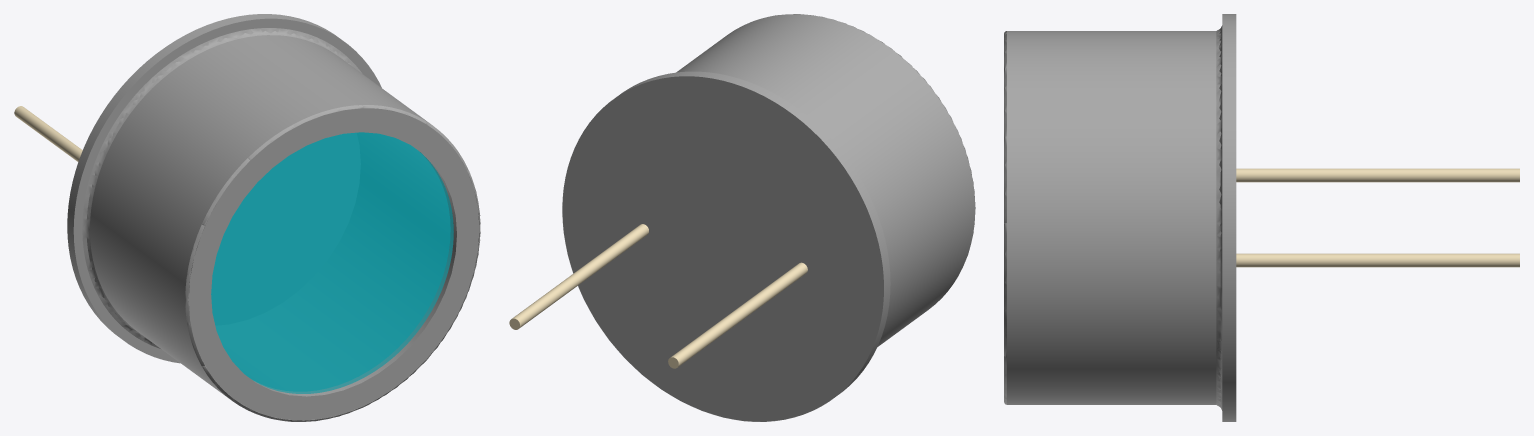
The model's file is TO-8-2_Window.glb.
3 renders of one model, left to right at view 1: azimuth 30°, elevation 25°; view 2: azimuth 150°, elevation 25°; view 3: azimuth 270°, elevation 25°, orthographic. The views are drawn at different scales.
Parts seen in each view (by area): view 1: Shape_IndexedFaceSet.004, Shape_IndexedFaceSet.016, Shape_IndexedFaceSet.003, Shape_IndexedFaceSet.015, Shape_IndexedFaceSet, Shape_IndexedFaceSet.014, Shape_IndexedFaceSet.006, Shape_IndexedFaceSet.005, Shape_IndexedFaceSet.007, Shape_IndexedFaceSet.001, Shape_IndexedFaceSet.002, Shape_IndexedFaceSet.009; view 2: Shape_IndexedFaceSet.008, Shape_IndexedFaceSet.003, Shape_IndexedFaceSet.007, Shape_IndexedFaceSet.010, Shape_IndexedFaceSet.009, Shape_IndexedFaceSet.011; view 3: Shape_IndexedFaceSet.003, Shape_IndexedFaceSet.007, Shape_IndexedFaceSet.009, Shape_IndexedFaceSet.011, Shape_IndexedFaceSet.005, Shape_IndexedFaceSet.001.
Part boxes in pixels (x1=…): Shape_IndexedFaceSet.004: x1=211, y1=132, x2=453, y2=393; Shape_IndexedFaceSet.016: x1=211, y1=132, x2=450, y2=391; Shape_IndexedFaceSet.003: x1=90, y1=35, x2=479, y2=420; Shape_IndexedFaceSet.015: x1=188, y1=108, x2=450, y2=391; Shape_IndexedFaceSet: x1=188, y1=108, x2=479, y2=420; Shape_IndexedFaceSet.014: x1=211, y1=133, x2=360, y2=324; Shape_IndexedFaceSet.006: x1=73, y1=18, x2=381, y2=363; Shape_IndexedFaceSet.005: x1=82, y1=28, x2=362, y2=348; Shape_IndexedFaceSet.007: x1=67, y1=14, x2=338, y2=337; Shape_IndexedFaceSet.001: x1=185, y1=105, x2=480, y2=421; Shape_IndexedFaceSet.002: x1=255, y1=153, x2=456, y2=396; Shape_IndexedFaceSet.009: x1=14, y1=106, x2=82, y2=161; Shape_IndexedFaceSet.008: x1=562, y1=76, x2=883, y2=421; Shape_IndexedFaceSet.003: x1=676, y1=14, x2=975, y2=346; Shape_IndexedFaceSet.007: x1=562, y1=71, x2=890, y2=421; Shape_IndexedFaceSet.010: x1=739, y1=174, x2=842, y2=263; Shape_IndexedFaceSet.009: x1=671, y1=262, x2=807, y2=366; Shape_IndexedFaceSet.011: x1=512, y1=224, x2=648, y2=328; Shape_IndexedFaceSet.003: x1=1007, y1=31, x2=1216, y2=404; Shape_IndexedFaceSet.007: x1=1222, y1=14, x2=1236, y2=421; Shape_IndexedFaceSet.009: x1=1236, y1=168, x2=1519, y2=182; Shape_IndexedFaceSet.011: x1=1236, y1=253, x2=1519, y2=267; Shape_IndexedFaceSet.005: x1=1216, y1=25, x2=1222, y2=410; Shape_IndexedFaceSet.001: x1=1004, y1=31, x2=1006, y2=404.
Bounding box in the file's own units: 5.67 × 5.67 × 7.17.
